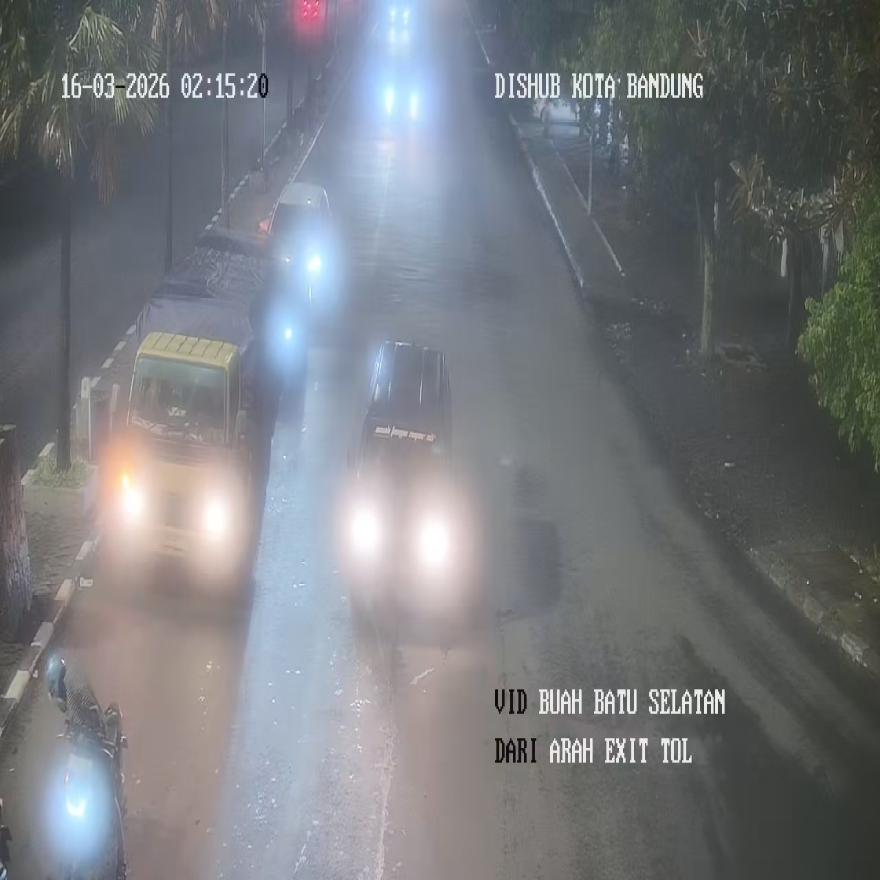Motor: (338, 341, 486, 623)
Truk: (47, 656, 127, 880)
